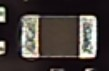COMP: (14, 10, 103, 63)
GAP: (1, 16, 34, 58)
